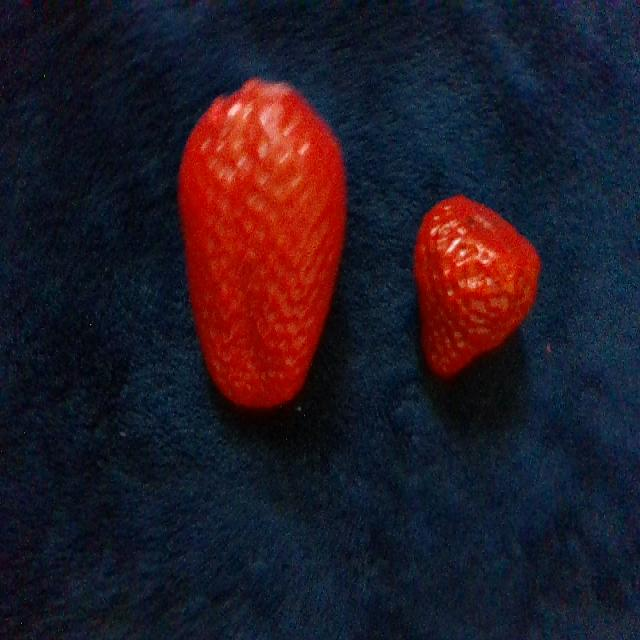chica_roja: (415, 196, 540, 376)
grande_roja: (179, 80, 345, 407)
